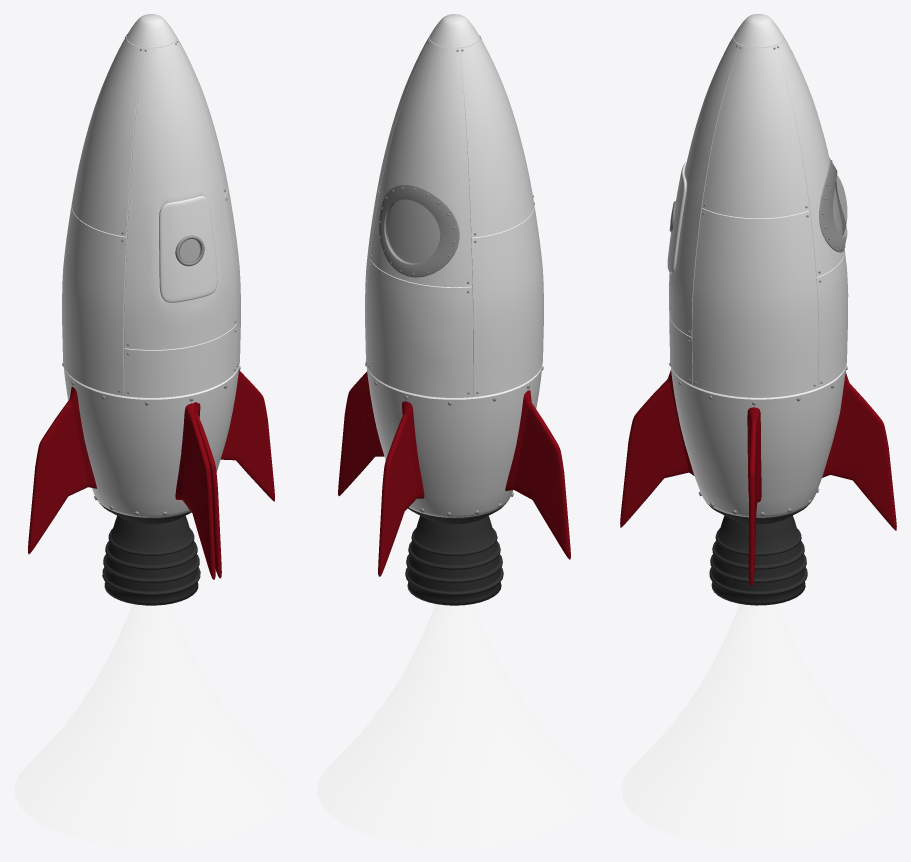
Rendered from rocket.glb.
3 views of the same model, side by side, from view 1: azimuth 30°, elevation 25°; view 2: azimuth 150°, elevation 25°; view 3: azimuth 270°, elevation 25° (orthographic).
Parts seen in each view (by area): view 1: Rocket body, Fume, Rocket fin, Engine, Rocket fin base instanced; view 2: Rocket body, Fume, Rocket fin, Engine, Rocket window frame, Rocket window; view 3: Rocket body, Fume, Rocket fin, Engine, Rocket fin base instanced, Rocket window frame, Rocket window.
Part boxes in pixels (<box>): Rocket body: <box>62,14,240,517</box>; Fume: <box>14,604,288,847</box>; Rocket fin: <box>28,370,274,579</box>; Engine: <box>99,503,200,605</box>; Rocket fin base instanced: <box>193,402,221,578</box>; Rocket body: <box>365,14,543,517</box>; Fume: <box>317,604,591,847</box>; Rocket fin: <box>338,371,570,576</box>; Engine: <box>405,503,506,605</box>; Rocket window frame: <box>378,184,459,277</box>; Rocket window: <box>386,200,439,262</box>; Rocket body: <box>667,14,848,517</box>; Fume: <box>621,604,895,847</box>; Rocket fin: <box>620,370,896,585</box>; Engine: <box>706,502,808,605</box>; Rocket fin base instanced: <box>620,371,694,527</box>; Rocket window frame: <box>819,157,847,252</box>; Rocket window: <box>833,175,846,235</box>.
Size of the model in its own units: 2.5 by 7.72 by 2.5.
